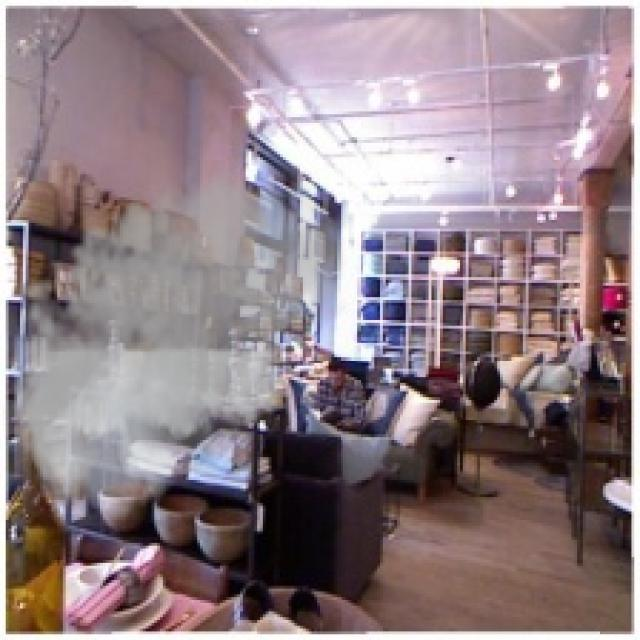Smoke: (0, 154, 352, 526)
